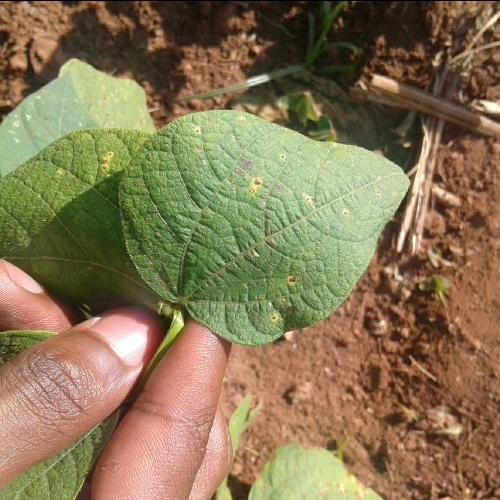hawar: (275, 261, 308, 297), (232, 168, 270, 198), (337, 200, 368, 226)
